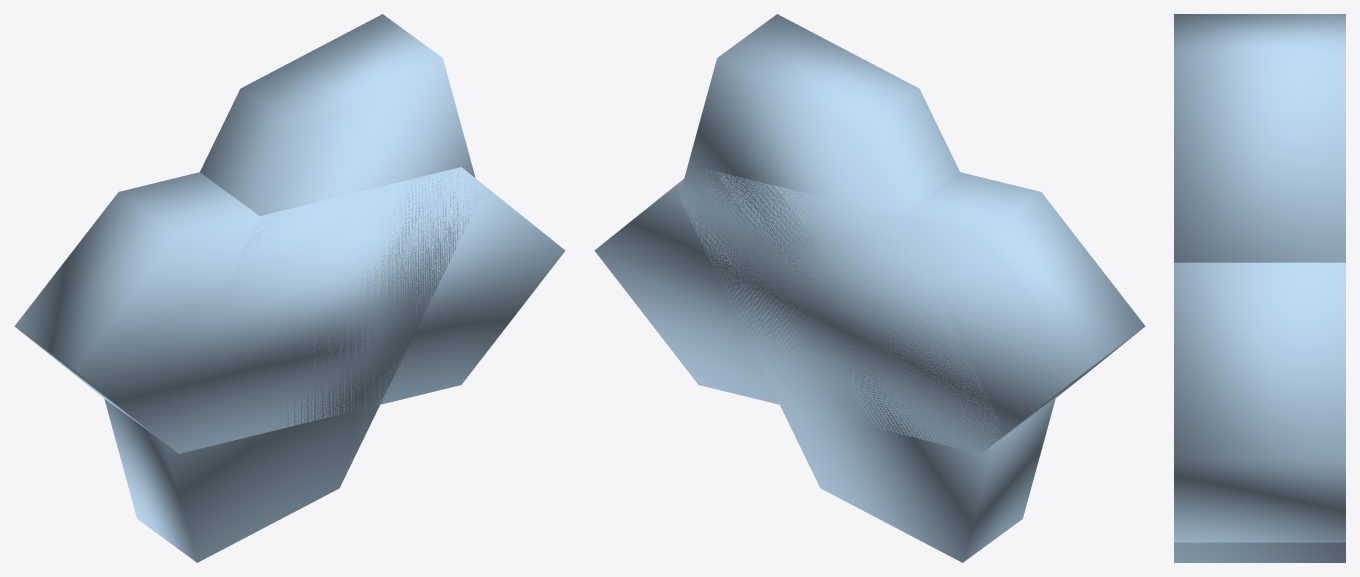
Rendered from staurolite-cross-60.glb.
3 renders of one model, left to right at view 1: azimuth 30°, elevation 25°; view 2: azimuth 150°, elevation 25°; view 3: azimuth 270°, elevation 25°, orthographic. The views are drawn at different scales.
Visible parts, largest first — view 1: staurolite-cross-60; view 2: staurolite-cross-60; view 3: staurolite-cross-60.
Part boxes in pixels (box(x1,y1,x2,y2)): staurolite-cross-60: box(14, 14, 565, 562); staurolite-cross-60: box(594, 14, 1145, 562); staurolite-cross-60: box(1174, 14, 1345, 562).
Bounding box in the file's own units: 2.83 × 2.45 × 0.6.
